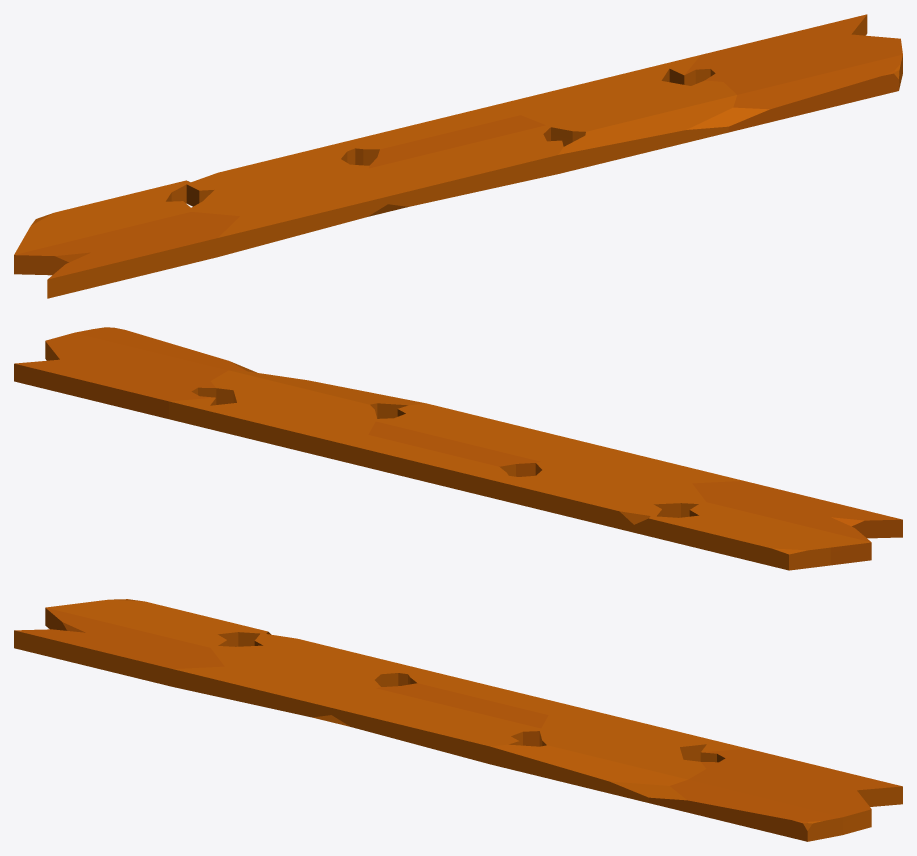
Rendered from Rotten wood_14.fbx.
3 renders of one model, top to bottom at view 1: azimuth 30°, elevation 25°; view 2: azimuth 150°, elevation 25°; view 3: azimuth 330°, elevation 25°, orthographic. The views are drawn at different scales.
Visible parts, largest first — view 1: Cube.109; view 2: Cube.109; view 3: Cube.109.
Boxes of the visible parts, <box> form: Cube.109: <box>14,14,902,298</box>; Cube.109: <box>14,327,902,570</box>; Cube.109: <box>14,599,902,841</box>.
Size of the model in its own units: 99.99 by 2.07 by 13.07.
